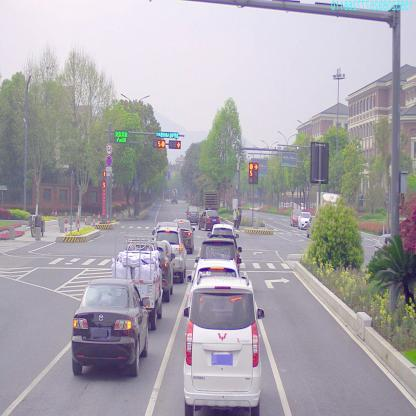traffic-light: (156, 133, 178, 139), (169, 140, 181, 150), (153, 140, 165, 149)
